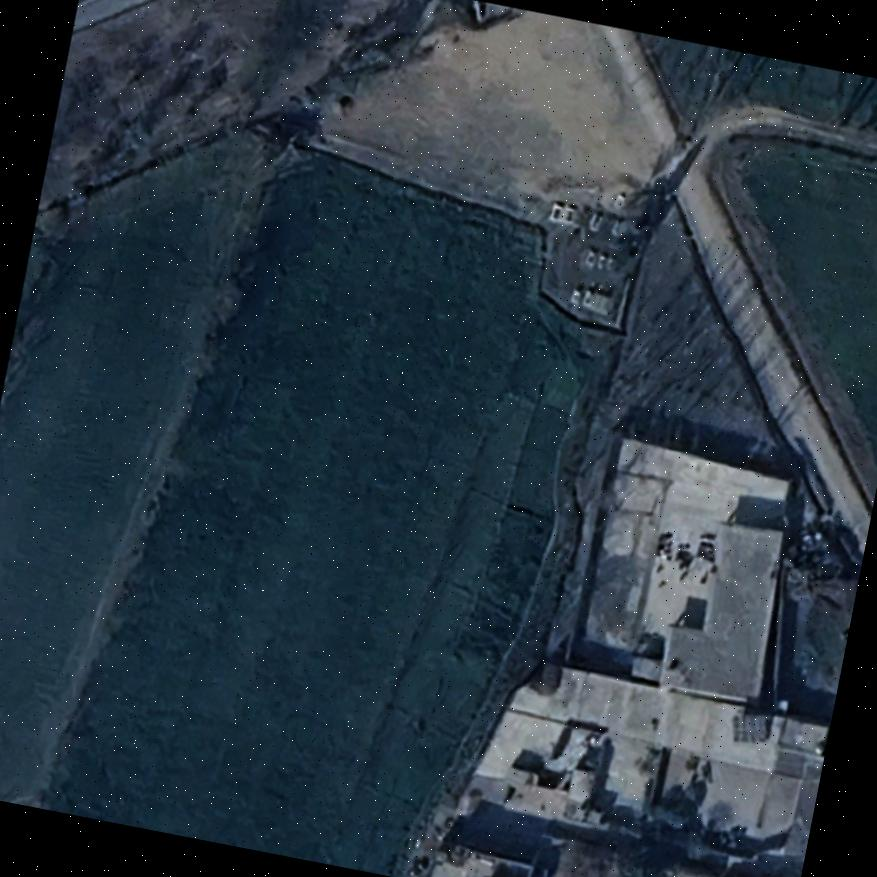Solarpanel: (725, 704, 774, 750)
